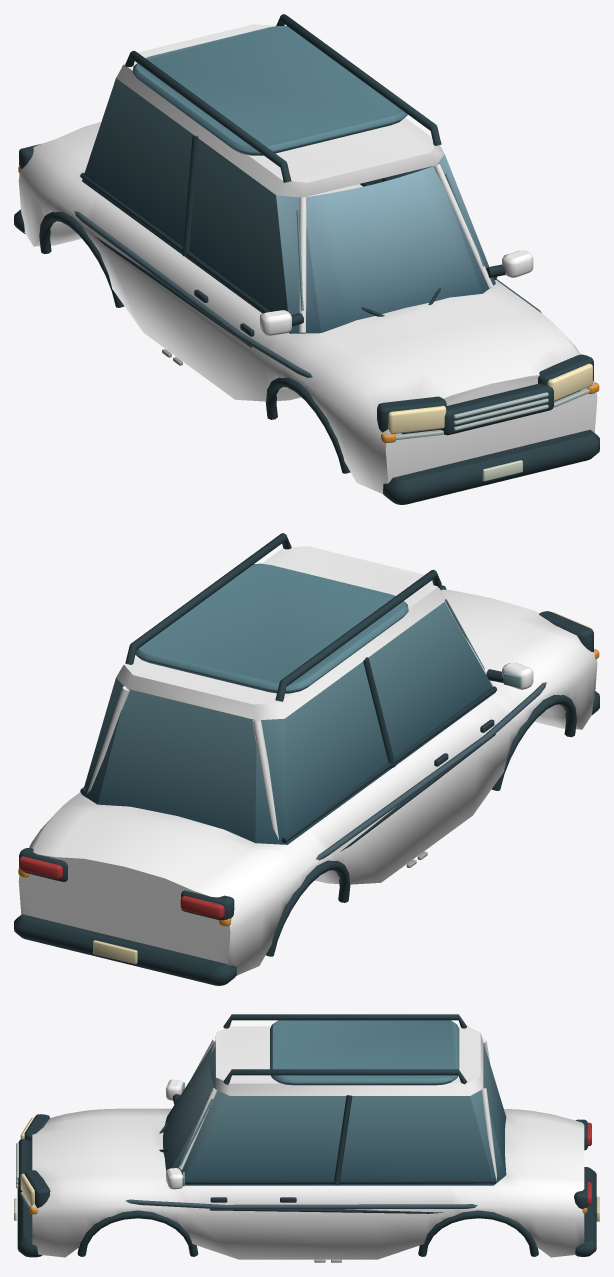
The model's file is sovereign.glb.
The picture shows the model from 3 angles, top to bottom: view 1: azimuth 30°, elevation 25°; view 2: azimuth 150°, elevation 25°; view 3: azimuth 270°, elevation 25°; orthographic projection. The views are drawn at different scales.
Visible parts, largest first — view 1: Chassis, Headlamps; view 2: Chassis, BrakeLamps; view 3: Chassis, Headlamps.
Part boxes in pixels (<box>): Chassis: <box>14,14,599,504</box>; Headlamps: <box>388,363,592,434</box>; Chassis: <box>14,533,599,985</box>; BrakeLamps: <box>19,856,224,918</box>; Chassis: <box>14,1014,599,1262</box>; Headlamps: <box>20,1117,34,1205</box>.
Size of the model in its own units: 1.99 by 1.68 by 4.99.
